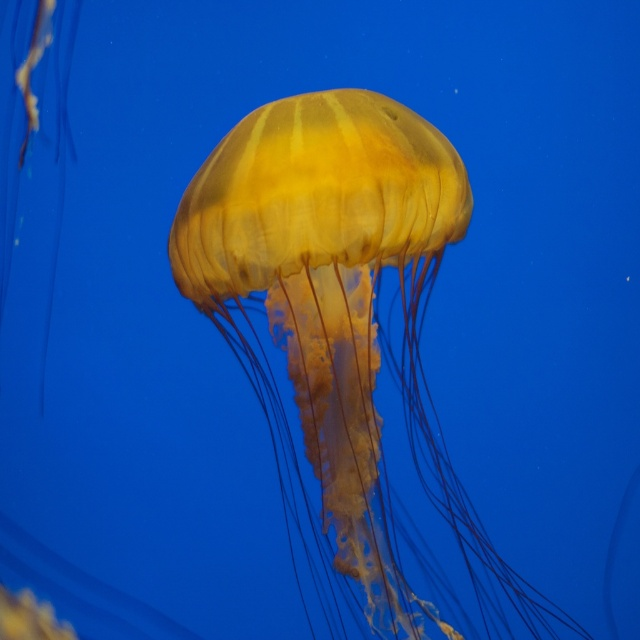Jellyfish: (162, 84, 590, 639)
